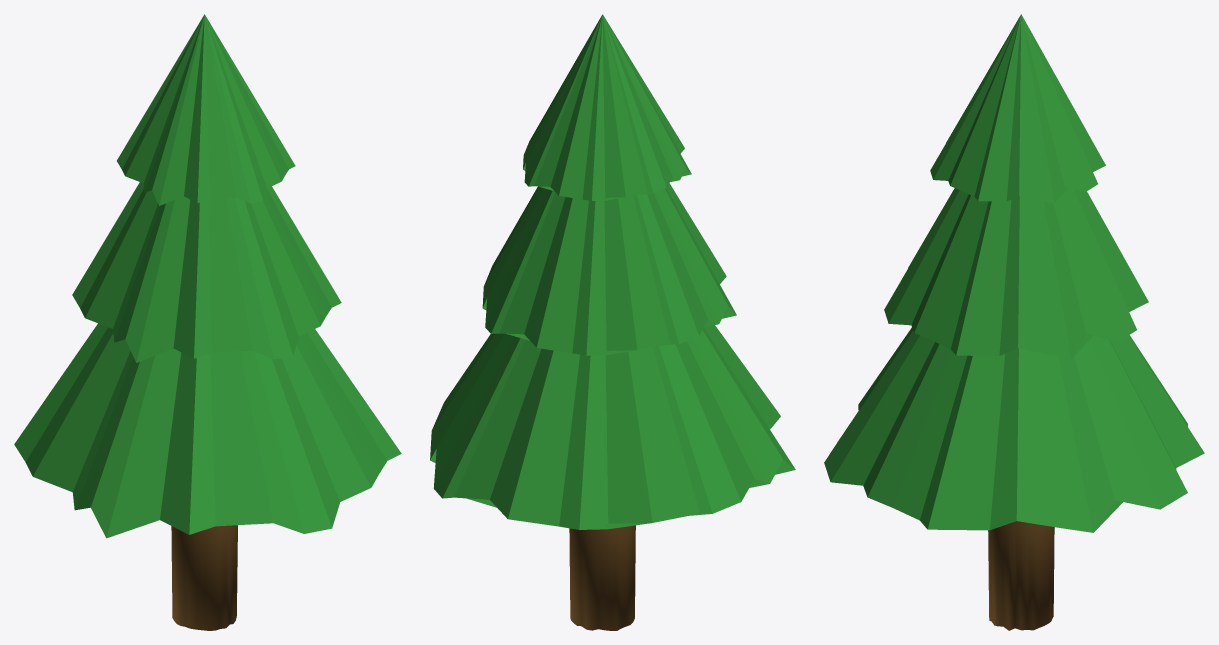
The model's file is tree.fbx.
The picture shows the model from 3 angles, left to right: view 1: azimuth 30°, elevation 25°; view 2: azimuth 150°, elevation 25°; view 3: azimuth 270°, elevation 25°; orthographic projection.
Visible parts, largest first — view 1: Cylinder.005; view 2: Cylinder.005; view 3: Cylinder.005.
Part boxes in pixels (box(x1,y1,x2,y2)): Cylinder.005: box(14, 14, 401, 630); Cylinder.005: box(430, 14, 795, 630); Cylinder.005: box(824, 14, 1204, 630).
Bounding box in the file's own units: 435 × 796 × 454.
